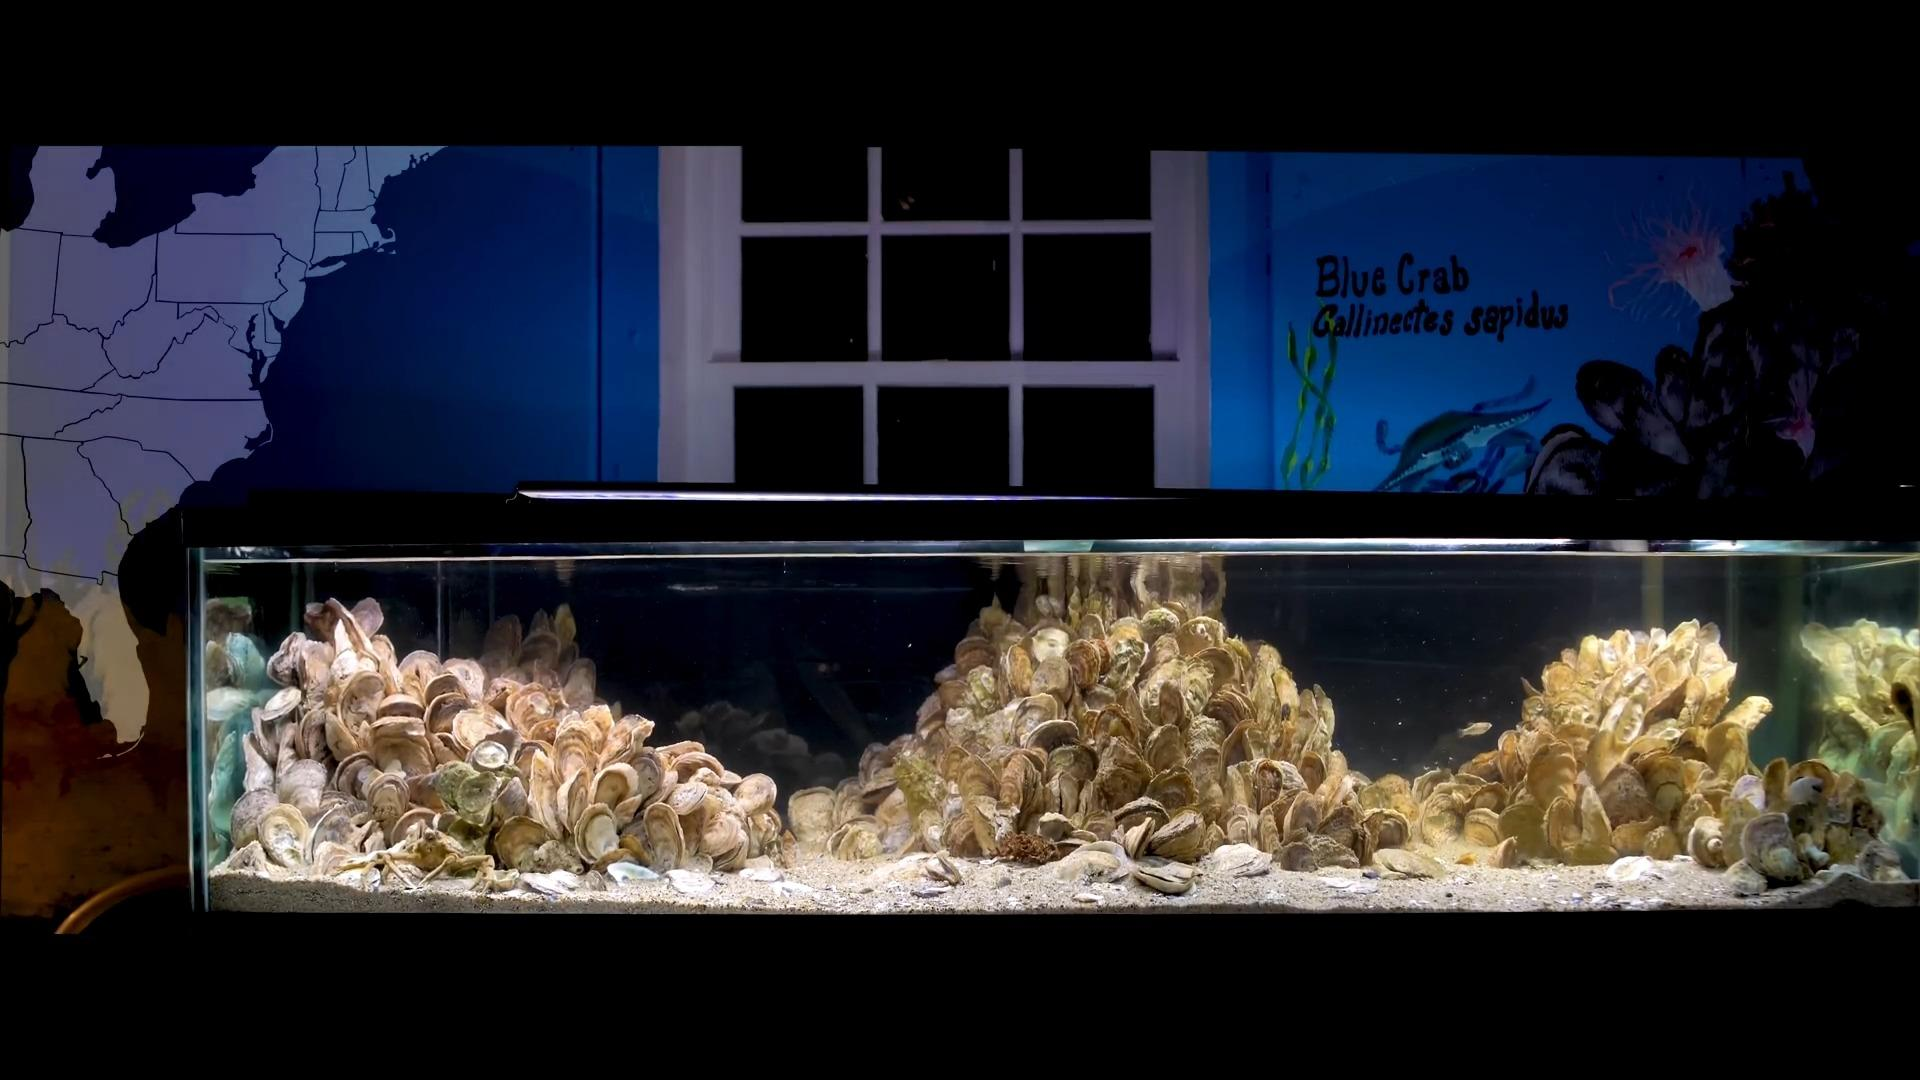Oyster: (1738, 812, 1804, 882), (327, 605, 384, 679), (1524, 742, 1581, 812), (996, 745, 1051, 816), (1095, 745, 1154, 811), (491, 814, 555, 872), (367, 716, 433, 773), (256, 802, 311, 869), (1145, 808, 1212, 862), (505, 682, 562, 742), (1138, 658, 1192, 721), (1497, 800, 1551, 862), (228, 786, 281, 849), (276, 757, 331, 816), (644, 803, 691, 872), (1246, 757, 1303, 814), (306, 798, 357, 858), (786, 786, 840, 843), (949, 750, 1002, 808), (447, 705, 502, 760), (700, 811, 750, 870), (589, 764, 636, 823), (1029, 655, 1076, 712), (479, 612, 522, 673), (1360, 807, 1411, 857), (1785, 758, 1836, 810), (1129, 857, 1196, 895), (365, 769, 413, 823), (1104, 633, 1149, 690), (529, 754, 559, 837), (576, 803, 618, 862), (670, 749, 731, 790), (1112, 795, 1170, 837), (944, 810, 993, 860), (438, 655, 488, 704), (1145, 766, 1196, 814), (314, 840, 373, 881), (265, 633, 307, 690), (828, 820, 884, 862), (1011, 694, 1060, 741), (240, 729, 276, 794), (1065, 638, 1109, 691), (1279, 791, 1320, 847), (1143, 723, 1185, 775), (322, 709, 363, 764), (733, 771, 779, 819), (332, 750, 377, 799), (389, 806, 440, 848), (1025, 717, 1081, 756), (1027, 625, 1073, 671), (556, 770, 587, 839), (258, 683, 305, 728), (559, 657, 597, 711), (372, 691, 426, 729), (1462, 807, 1505, 853), (493, 775, 530, 822), (666, 779, 709, 818), (348, 596, 385, 640), (1121, 816, 1156, 861), (1034, 811, 1081, 843), (203, 638, 232, 690), (858, 777, 901, 811), (1481, 835, 1519, 870), (554, 601, 578, 647), (487, 866, 522, 893)
